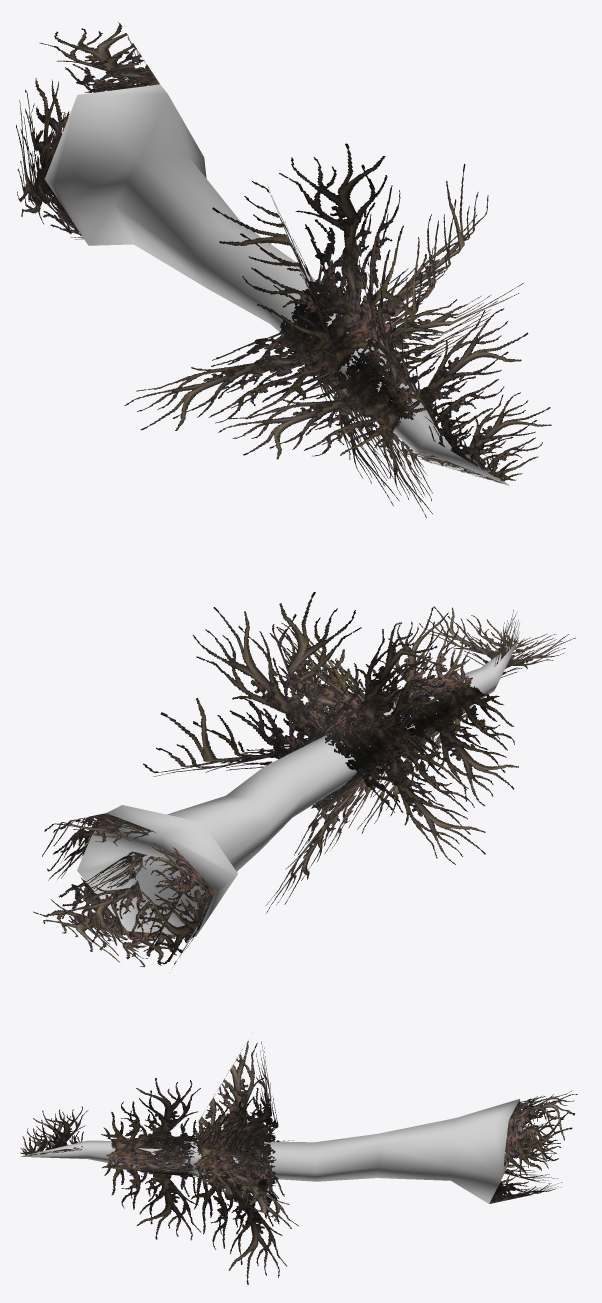
The model's file is tirisfallfallentree01.obj.
3 views of the same model, one above another, from view 1: azimuth 30°, elevation 25°; view 2: azimuth 150°, elevation 25°; view 3: azimuth 270°, elevation 25° (orthographic). The views are drawn at different scales.
Parts seen in each view (by area): view 1: TIRISFALLFALLENTREE011, TIRISFALLFALLENTREE010; view 2: TIRISFALLFALLENTREE011, TIRISFALLFALLENTREE010; view 3: TIRISFALLFALLENTREE011, TIRISFALLFALLENTREE010.
Part boxes in pixels (<box>): TIRISFALLFALLENTREE011: <box>16,22,551,517</box>; TIRISFALLFALLENTREE010: <box>45,84,509,485</box>; TIRISFALLFALLENTREE011: <box>33,592,575,966</box>; TIRISFALLFALLENTREE010: <box>77,640,518,936</box>; TIRISFALLFALLENTREE011: <box>20,1041,577,1284</box>; TIRISFALLFALLENTREE010: <box>20,1099,521,1203</box>.
Size of the model in its own units: 28.75 by 27.48 by 61.92.
